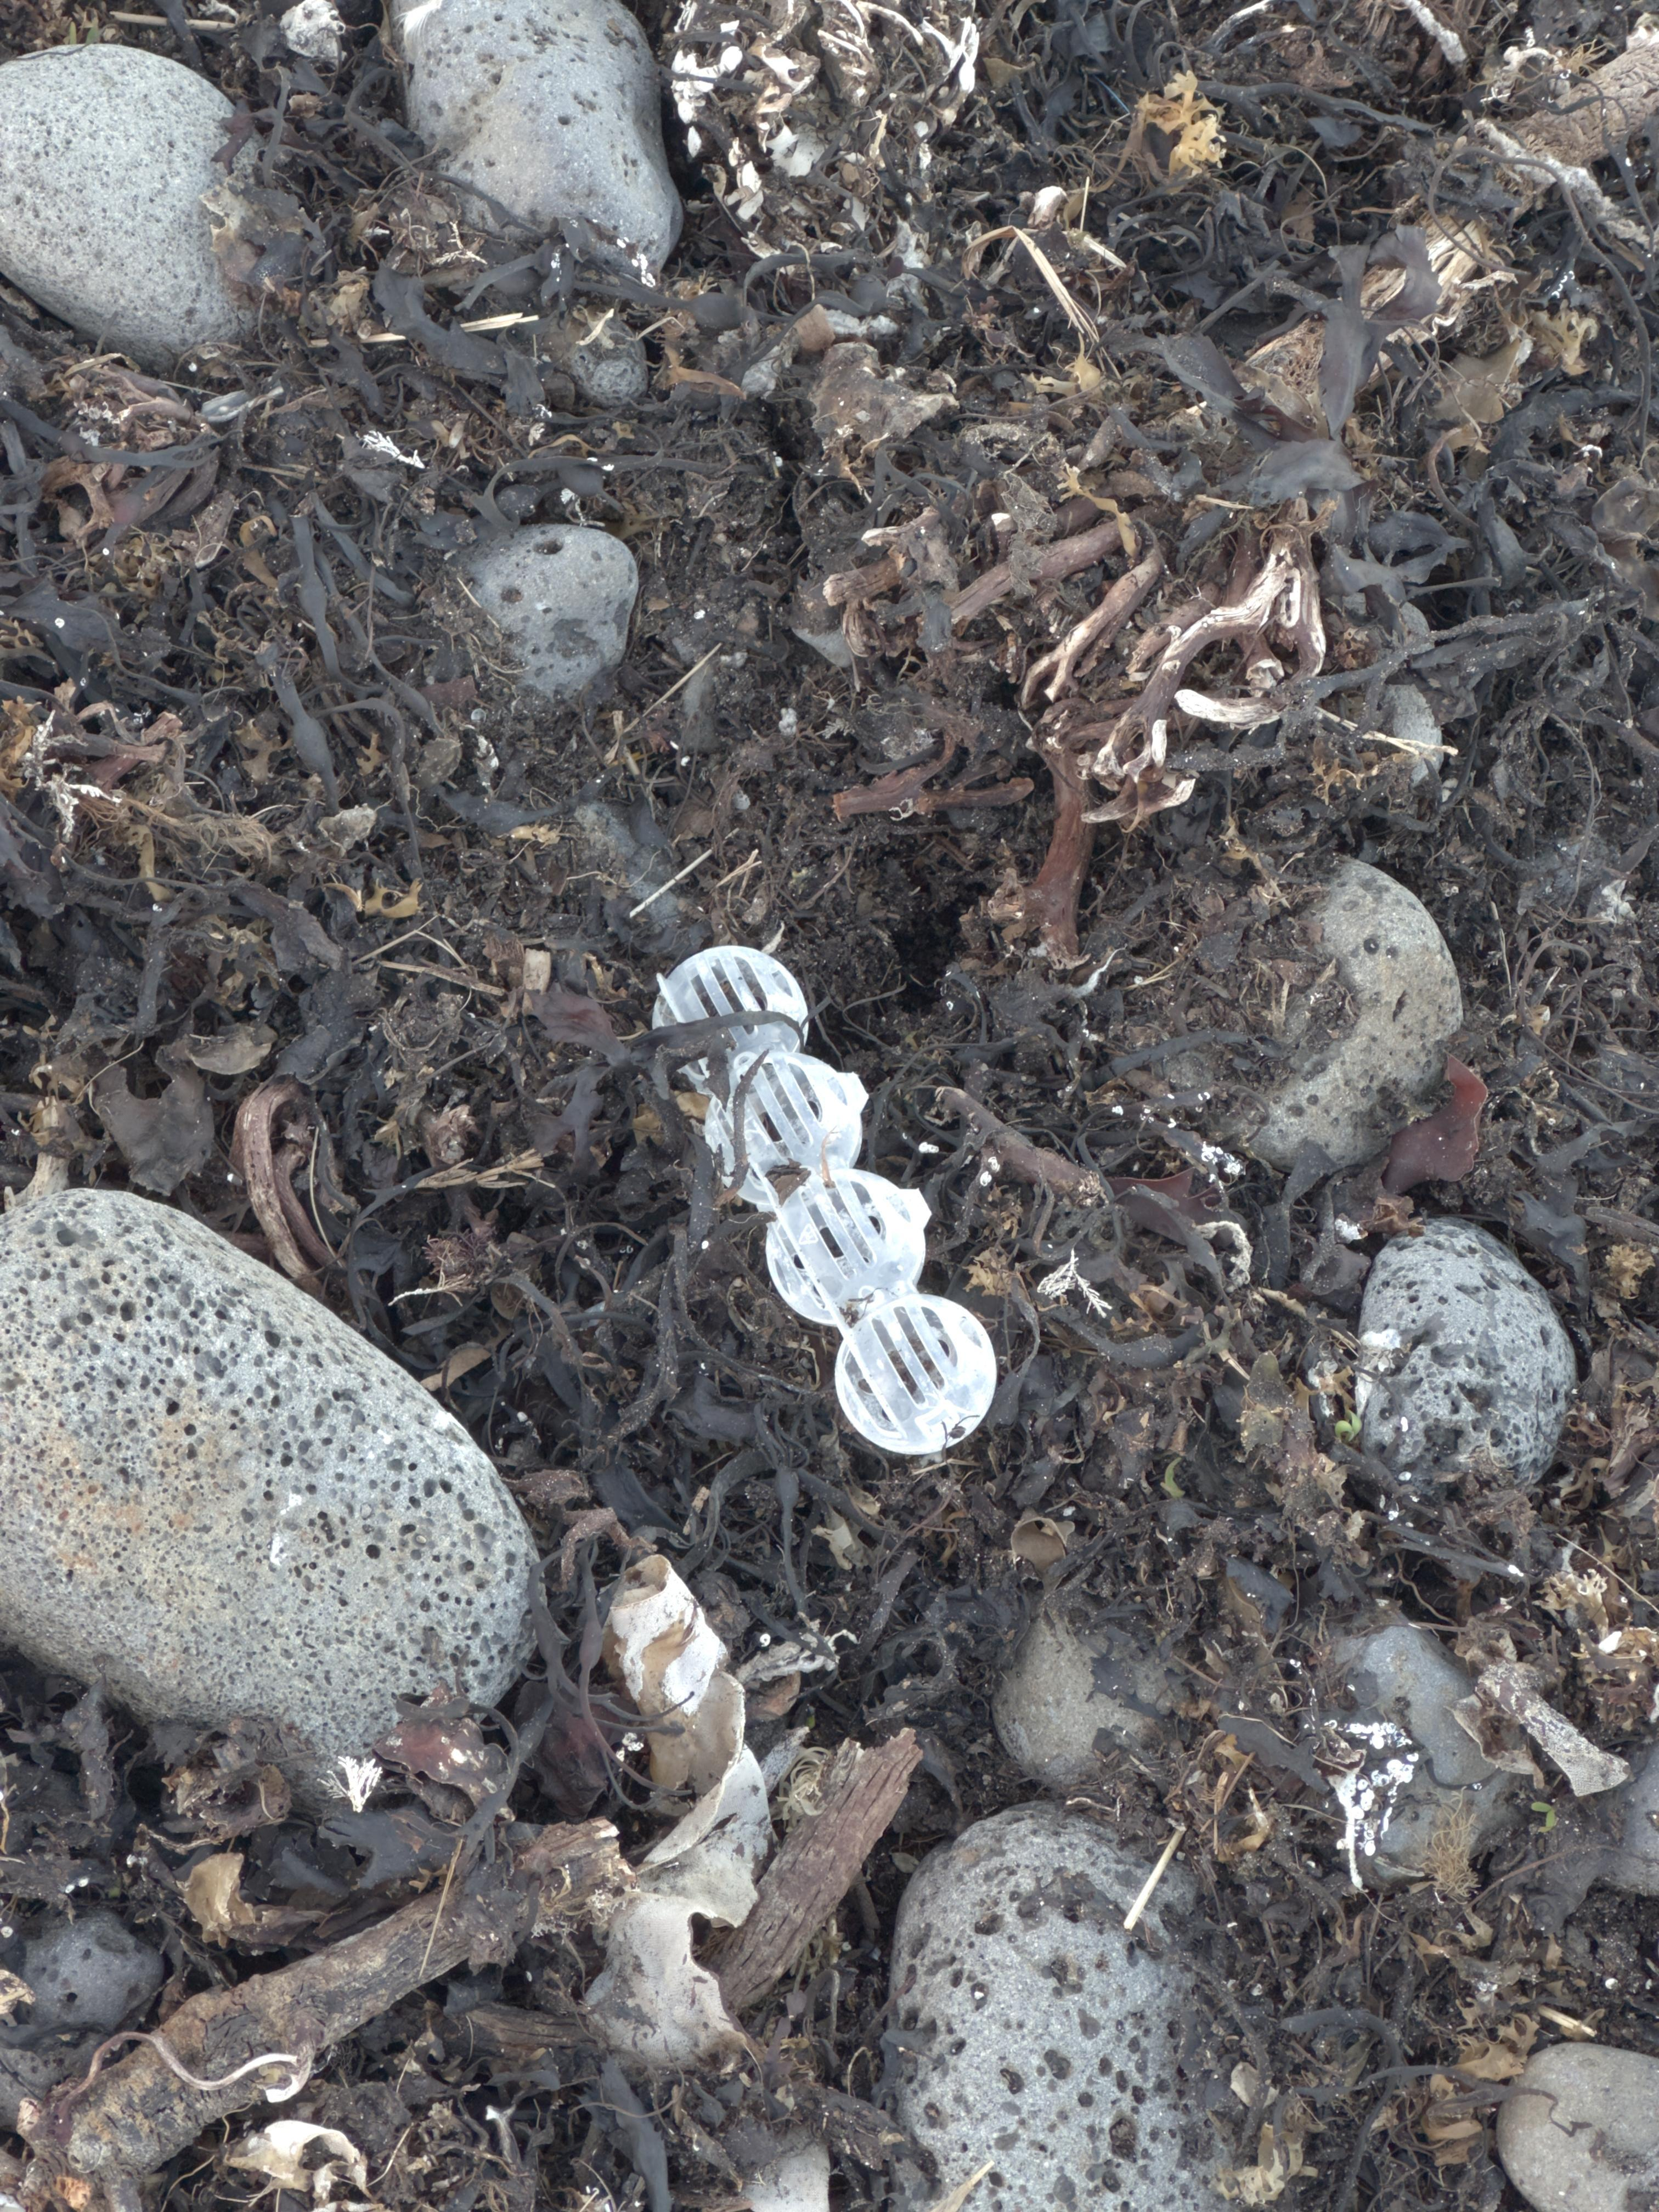trash: (704, 1028, 990, 1451), (657, 951, 800, 1024)
